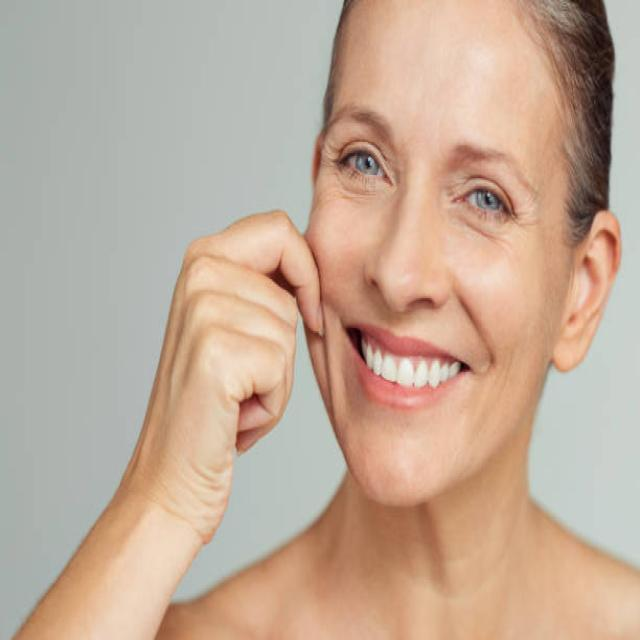dry: (506, 186, 566, 435)
